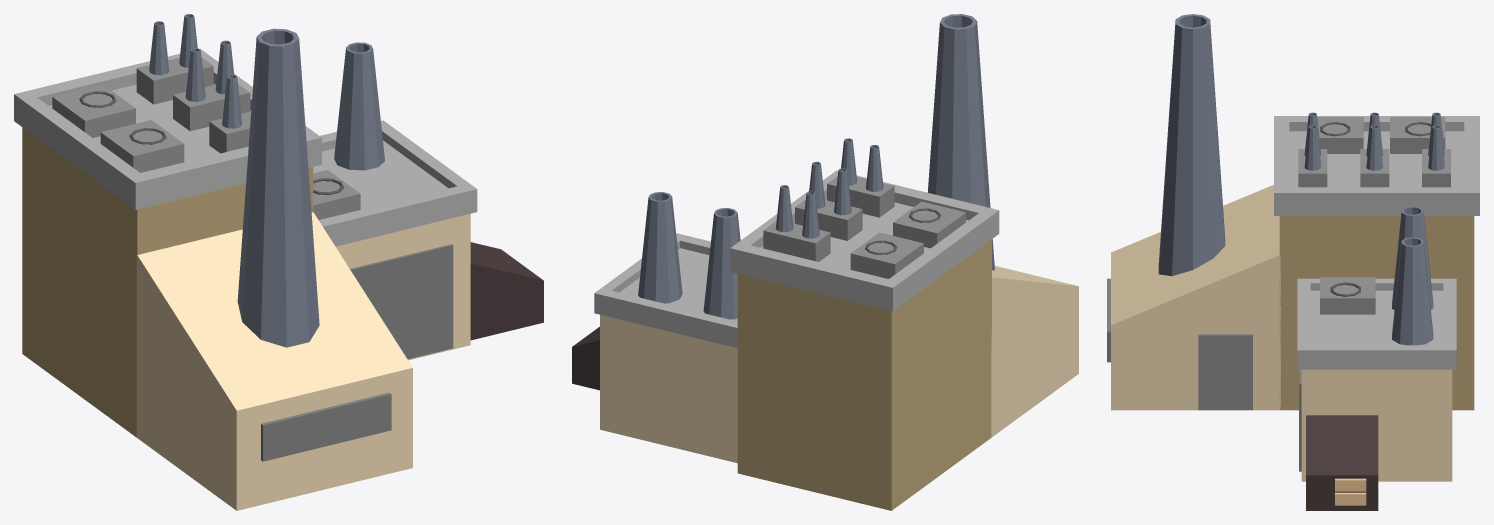
The model's file is Factory_1.fbx.
The picture shows the model from 3 angles, left to right: view 1: azimuth 30°, elevation 25°; view 2: azimuth 150°, elevation 25°; view 3: azimuth 270°, elevation 25°; orthographic projection. The views are drawn at different scales.
Visible parts, largest first — view 1: pCube13.018, pCube13.017, Pole_1, pCube13.004, pCube13.025, pCube13.020, pCube13.006, pCube13.026, pCube13.013, _pole_2.001, pCube13.008, pCube13.011 (+9 smaller); view 2: pCube13.017, pCube13.026, pCube13.004, pCube13.018, Pole_1, pCube13.025, _pole_2.001, _pole_3, pCube13.011, pCube13.008, pCube13.007, pCube13.027 (+6 smaller); view 3: pCube13.018, pCube13.017, Pole_1, pCube13.004, pCube13.026, pCube13.025, pCube13.006, pCube13.005, _pole_2.001, pCube13, pCube13.008, pCube13.011 (+9 smaller).
Boxes of the visible parts, x1=… form: pCube13.018: x1=136, y1=212, x2=412, y2=510; pCube13.017: x1=22, y1=127, x2=313, y2=437; Pole_1: x1=237, y1=28, x2=319, y2=347; pCube13.004: x1=14, y1=48, x2=321, y2=209; pCube13.025: x1=313, y1=120, x2=477, y2=246; pCube13.020: x1=350, y1=244, x2=453, y2=359; pCube13.006: x1=470, y1=242, x2=543, y2=340; pCube13.026: x1=336, y1=214, x2=470, y2=360; pCube13.013: x1=261, y1=392, x2=391, y2=461; _pole_2.001: x1=334, y1=42, x2=384, y2=170; pCube13.008: x1=100, y1=120, x2=184, y2=172; pCube13.011: x1=52, y1=84, x2=135, y2=137; pCube13.017: x1=737, y1=239, x2=991, y2=510; pCube13.026: x1=600, y1=314, x2=737, y2=463; pCube13.004: x1=730, y1=170, x2=999, y2=311; pCube13.018: x1=991, y1=266, x2=1078, y2=437; Pole_1: x1=927, y1=14, x2=994, y2=270; pCube13.025: x1=594, y1=233, x2=737, y2=348; _pole_2.001: x1=638, y1=192, x2=682, y2=303; _pole_3: x1=703, y1=208, x2=740, y2=319; pCube13.011: x1=850, y1=232, x2=923, y2=278; pCube13.008: x1=893, y1=201, x2=965, y2=248; pCube13.007: x1=763, y1=221, x2=830, y2=261; pCube13.027: x1=795, y1=199, x2=862, y2=240; pCube13.018: x1=1111, y1=185, x2=1280, y2=410; pCube13.017: x1=1279, y1=216, x2=1474, y2=410; Pole_1: x1=1158, y1=14, x2=1225, y2=276; pCube13.004: x1=1274, y1=116, x2=1479, y2=215; pCube13.026: x1=1301, y1=369, x2=1452, y2=481; pCube13.025: x1=1297, y1=278, x2=1456, y2=369; pCube13.006: x1=1306, y1=415, x2=1378, y2=510; pCube13.005: x1=1198, y1=334, x2=1252, y2=410; _pole_2.001: x1=1392, y1=237, x2=1433, y2=345; pCube13: x1=1320, y1=277, x2=1375, y2=314; pCube13.008: x1=1308, y1=117, x2=1363, y2=153; pCube13.011: x1=1390, y1=117, x2=1445, y2=153.
Size of the model in its own units: 4683 by 4333 by 4139.
